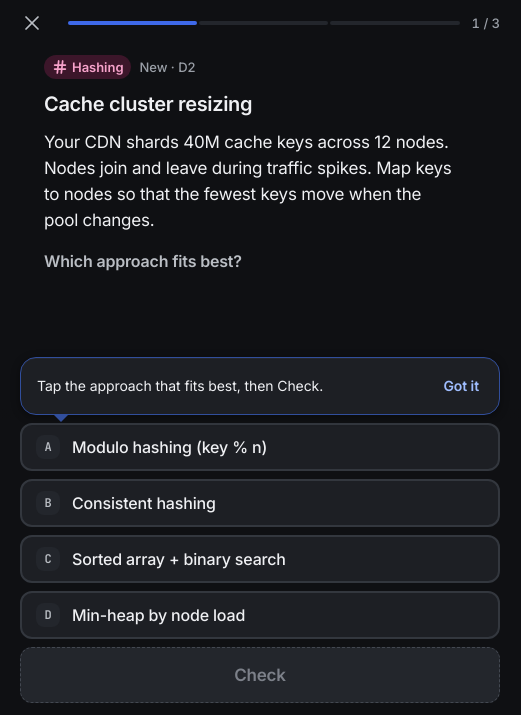
Validation: Big-O › wrong: 'Not quite' with 'It's O(log n).', dashed pick, no XP
Click the radio button labelled "Consistent hashing" at (144, 503), box [20,479,500,527]
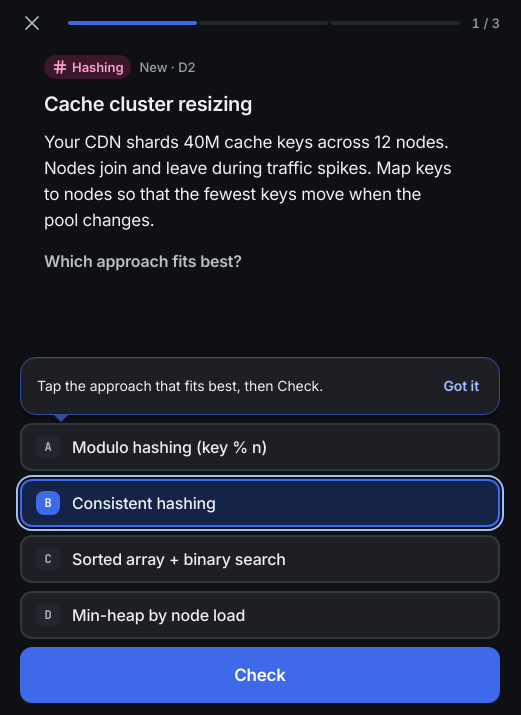
Click the button "Check" at (260, 675), box [20,647,500,703]
Wait 400 ms
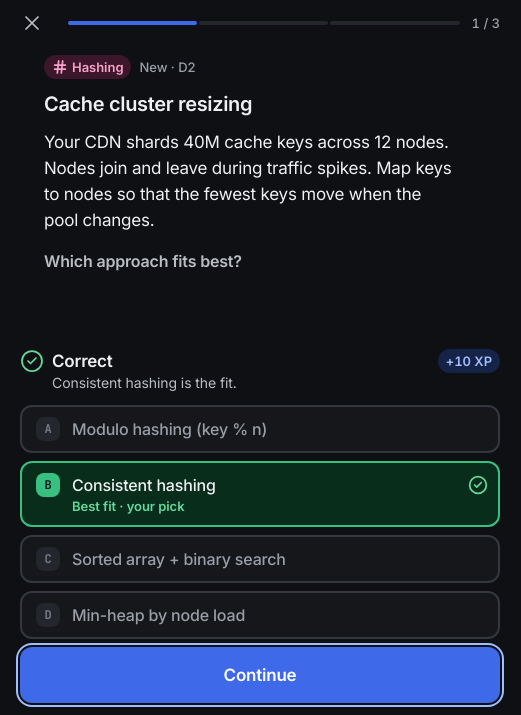
Click the button "Continue" at (260, 675), box [20,647,500,703]
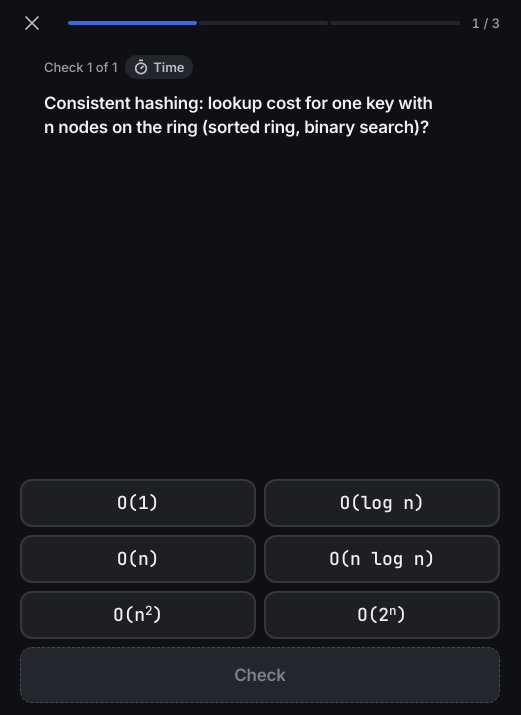
Click the radio button named "O of n" at (138, 559), box [20,535,256,583]
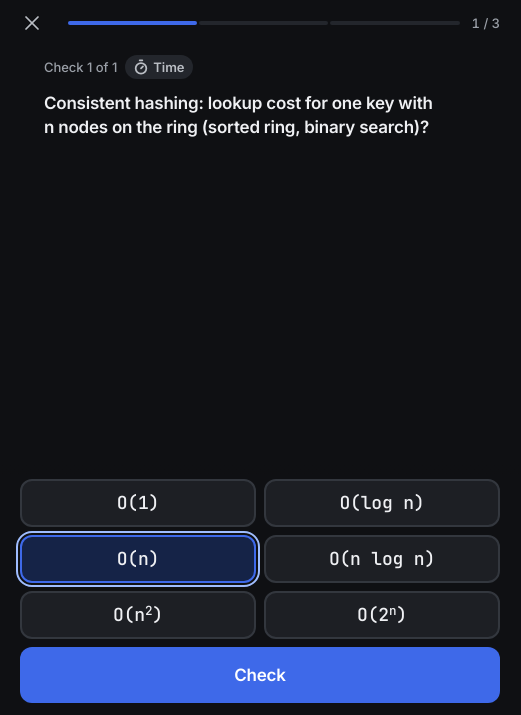
Click the button "Check" at (260, 675), box [20,647,500,703]
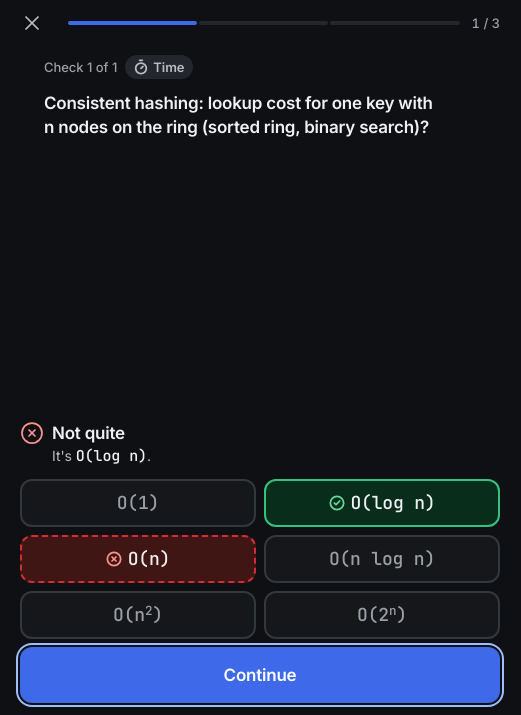
Expected: the message does not show "XP", [20,421,164,466]
Expected: the message shows "Not quite", [52,423,125,443]
Expected: the message shows "It's O(log n)", [20,421,164,466]
